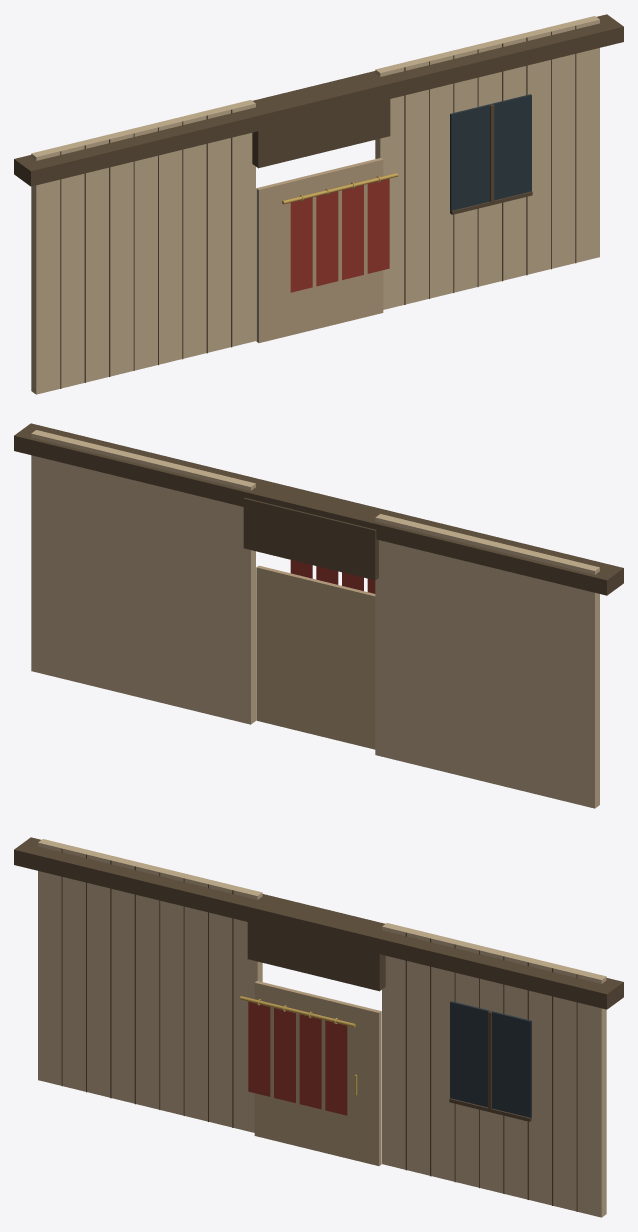
File: noren.glb
3 views of the same model, one above another, from view 1: azimuth 30°, elevation 25°; view 2: azimuth 150°, elevation 25°; view 3: azimuth 330°, elevation 25° (orthographic).
Parts seen in each view (by area): view 1: WallLeft, WallRight, Eave, SlidingDoor, WindowGlass, Lintel, Strip0, Strip1, Strip3, Strip2; view 2: WallLeft, WallRight, SlidingDoor, Eave, Lintel; view 3: WallLeft, WallRight, Eave, SlidingDoor, WindowGlass, Lintel, Strip2, Strip3, Strip0, Strip1.
Boxes of the visible parts, x1,y1,x2,y2 form: WallLeft: [31, 100, 255, 394]; WallRight: [375, 16, 599, 309]; Eave: [14, 14, 623, 186]; SlidingDoor: [256, 158, 383, 342]; WindowGlass: [450, 94, 531, 213]; Lintel: [252, 99, 390, 168]; Strip0: [290, 197, 312, 292]; Strip1: [316, 191, 338, 286]; Strip3: [367, 178, 389, 273]; Strip2: [342, 185, 363, 279]; WallLeft: [375, 514, 599, 808]; WallRight: [31, 430, 255, 724]; SlidingDoor: [256, 565, 375, 749]; Eave: [14, 423, 623, 595]; Lintel: [243, 497, 378, 580]; WallLeft: [38, 839, 262, 1132]; WallRight: [382, 923, 606, 1217]; Eave: [14, 837, 623, 1009]; SlidingDoor: [254, 981, 381, 1165]; WindowGlass: [450, 1001, 531, 1117]; Lintel: [247, 922, 385, 991]; Strip2: [299, 1014, 321, 1109]; Strip3: [325, 1020, 347, 1115]; Strip0: [248, 1001, 270, 1096]; Strip1: [274, 1008, 295, 1102].
Bounding box in the file's own units: 8.1 × 3.1 × 0.766.
